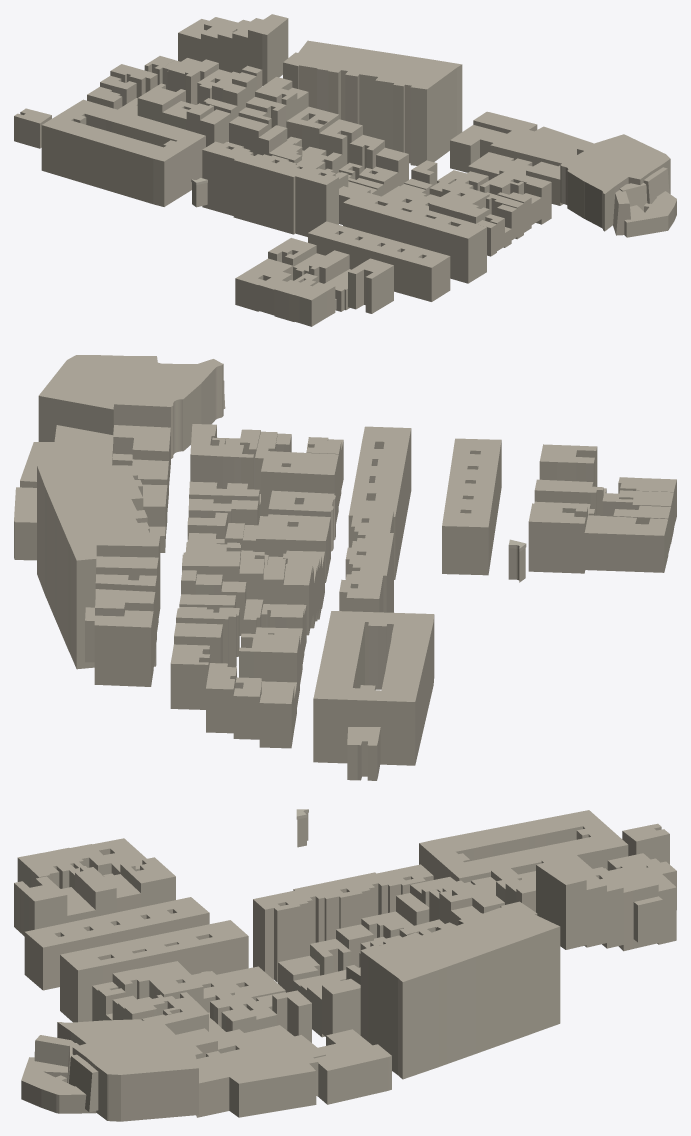
The model's file is senglea_59_27_mid.glb.
3 views of the same model, one above another, from view 1: azimuth 30°, elevation 25°; view 2: azimuth 150°, elevation 25°; view 3: azimuth 270°, elevation 25° (orthographic). The views are drawn at different scales.
Visible parts, largest first — view 1: geometry_0; view 2: geometry_0; view 3: geometry_0.
Part boxes in pixels (x1=…): geometry_0: x1=14, y1=14, x2=676, y2=326; geometry_0: x1=14, y1=355, x2=676, y2=780; geometry_0: x1=14, y1=809, x2=676, y2=1121.
Size of the model in its own units: 184 by 46.66 by 194.
